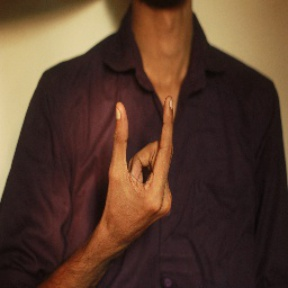U: (93, 89, 182, 222)
